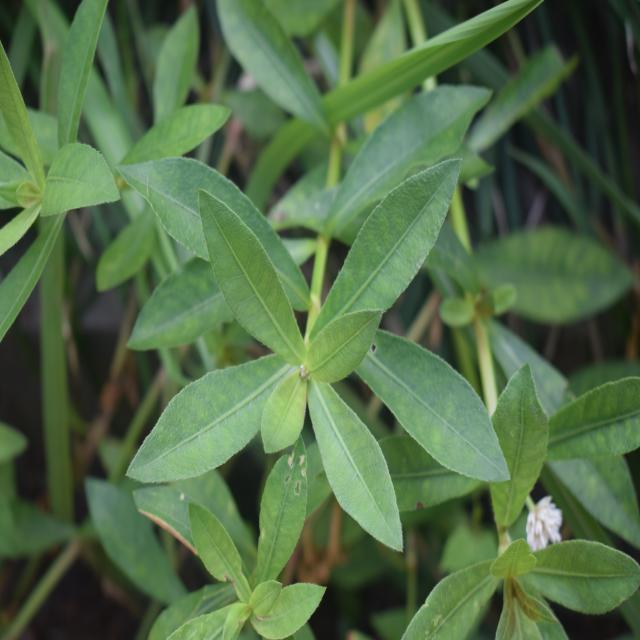Alligatorweed: (142, 148, 481, 548)
